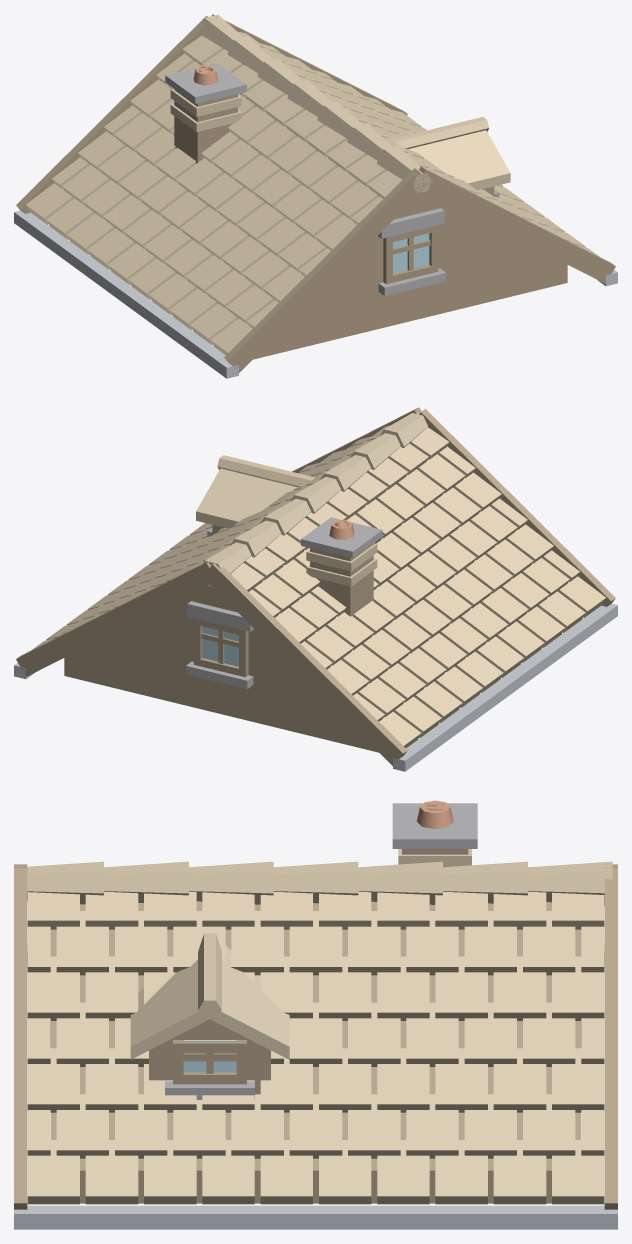
File: building.tileroof.glb
3 renders of one model, top to bottom at view 1: azimuth 30°, elevation 25°; view 2: azimuth 150°, elevation 25°; view 3: azimuth 270°, elevation 25°, orthographic. The views are drawn at different scales.
Parts seen in each view (by area): view 1: Paint, PaintDark, Metal, Stone, Glass; view 2: Paint, PaintDark, Metal, Stone, Glass; view 3: Paint, PaintDark, Metal, Stone, Clay, Glass.
Part boxes in pixels (bbox=[...]): Paint: bbox=[26, 14, 600, 354]; PaintDark: bbox=[16, 14, 615, 372]; Metal: bbox=[14, 210, 617, 378]; Stone: bbox=[165, 63, 499, 295]; Glass: bbox=[393, 233, 429, 273]; Paint: bbox=[31, 411, 605, 747]; PaintDark: bbox=[16, 407, 615, 765]; Metal: bbox=[14, 603, 617, 771]; Stone: bbox=[186, 517, 382, 688]; Glass: bbox=[202, 626, 238, 666]; Paint: bbox=[27, 849, 612, 1204]; PaintDark: bbox=[14, 849, 617, 1209]; Metal: bbox=[14, 943, 617, 1229]; Stone: bbox=[50, 803, 581, 1099]; Clay: bbox=[416, 800, 453, 828]; Glass: bbox=[183, 1040, 236, 1072].
Bounding box in the file's own units: 2.42 × 1 × 2.28.
